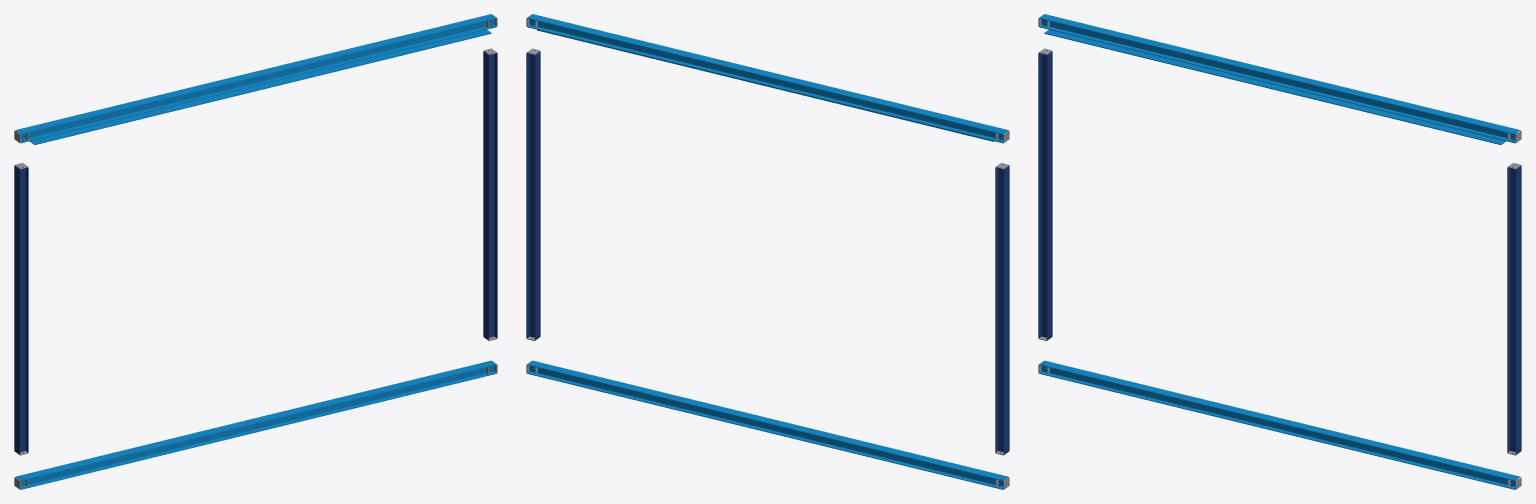
3 renders of one model, left to right at view 1: azimuth 30°, elevation 25°; view 2: azimuth 150°, elevation 25°; view 3: azimuth 330°, elevation 25°, orthographic.
Parts seen in each view (by area): view 1: nodes19, bovenligger, LS, nodes1, onderstrip; view 2: nodes19, bovenligger, LS, nodes1, onderstrip; view 3: nodes19, bovenligger, LS, nodes1, onderstrip.
Part boxes in pixels (x1,y1,x2,y2): nodes19: [15, 360, 496, 489]; bovenligger: [15, 14, 496, 143]; LS: [14, 165, 28, 454]; nodes1: [483, 51, 497, 340]; onderstrip: [30, 29, 491, 144]; nodes19: [527, 360, 1008, 489]; bovenligger: [527, 14, 1008, 143]; LS: [995, 165, 1009, 454]; nodes1: [526, 51, 540, 340]; onderstrip: [537, 29, 993, 141]; nodes19: [1039, 360, 1520, 489]; bovenligger: [1039, 14, 1520, 143]; LS: [1038, 51, 1052, 340]; nodes1: [1507, 165, 1521, 454]; onderstrip: [1044, 29, 1505, 144].
Size of the model in its own units: 6.11 by 4.35 by 0.22.
